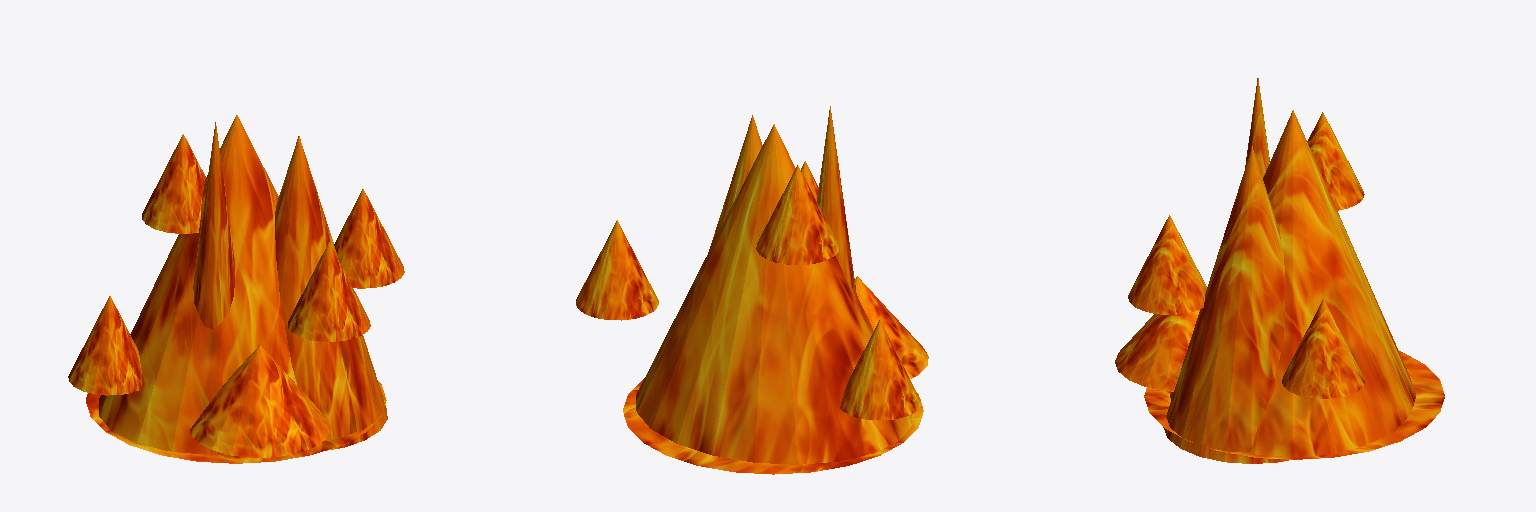
The picture shows the model from 3 angles: view 1: azimuth 30°, elevation 25°; view 2: azimuth 150°, elevation 25°; view 3: azimuth 270°, elevation 25°; orthographic projection.
Parts seen in each view (by area): view 1: pCone3; view 2: pCone3; view 3: pCone3.
Part boxes in pixels (bbox=[...]): pCone3: bbox=[68, 115, 404, 463]; pCone3: bbox=[576, 106, 928, 474]; pCone3: bbox=[1115, 78, 1444, 463].
Bounding box in the file's own units: 1.39 × 1.25 × 1.2.
7 materials, 1 textured.